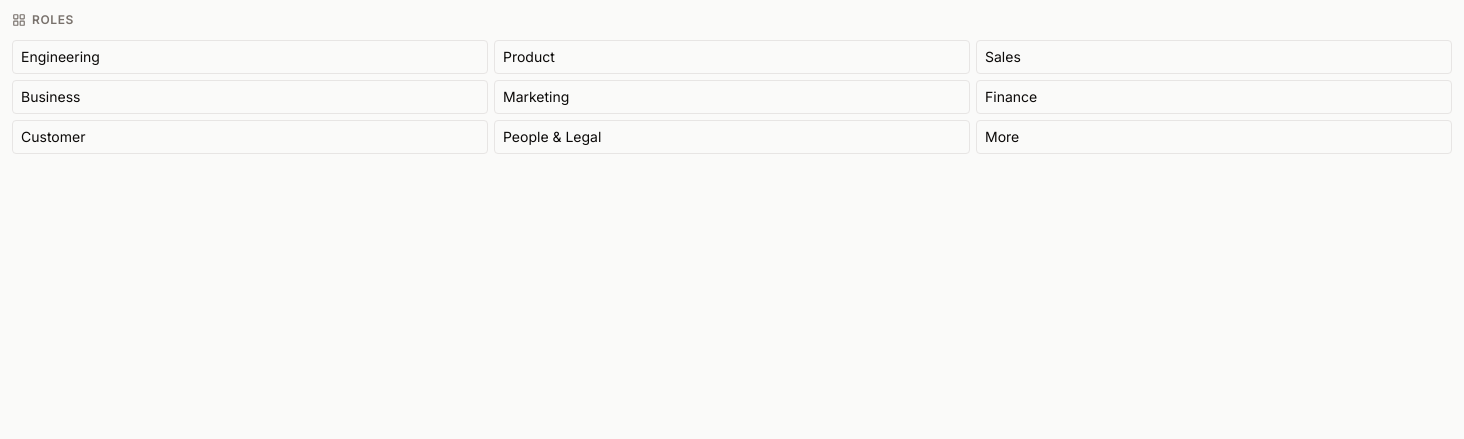
RolePicker › Engineering category shows sub-group labels
Click the button "Engineering" at (60, 56), box [12,40,488,74]
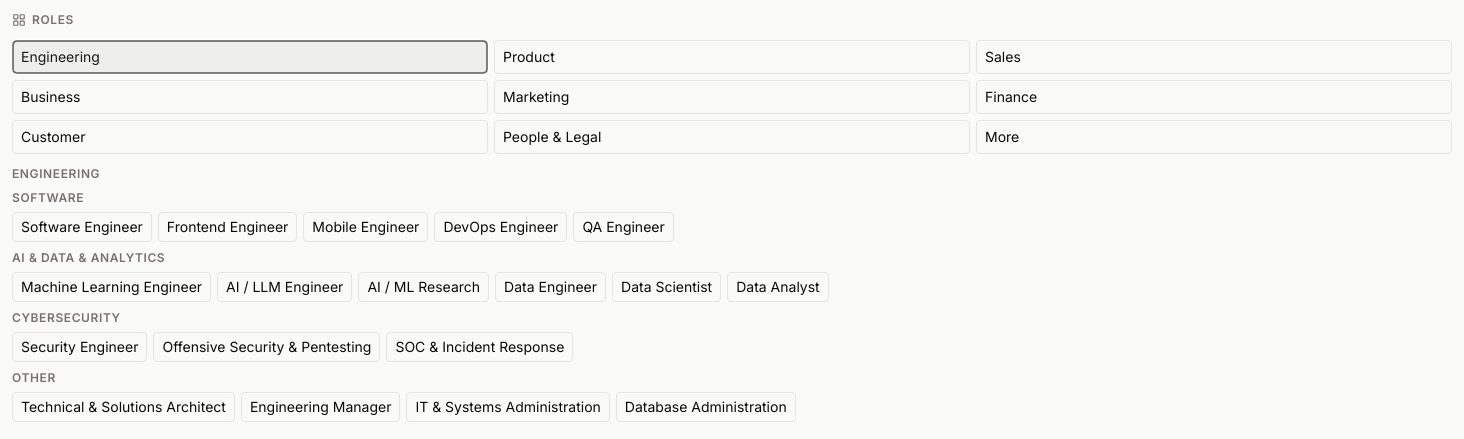
Check: the text "SOFTWARE" is shown, box [12,190,84,205]
Check: the text "AI & DATA & ANALYTICS" is shown, box [12,250,165,265]
